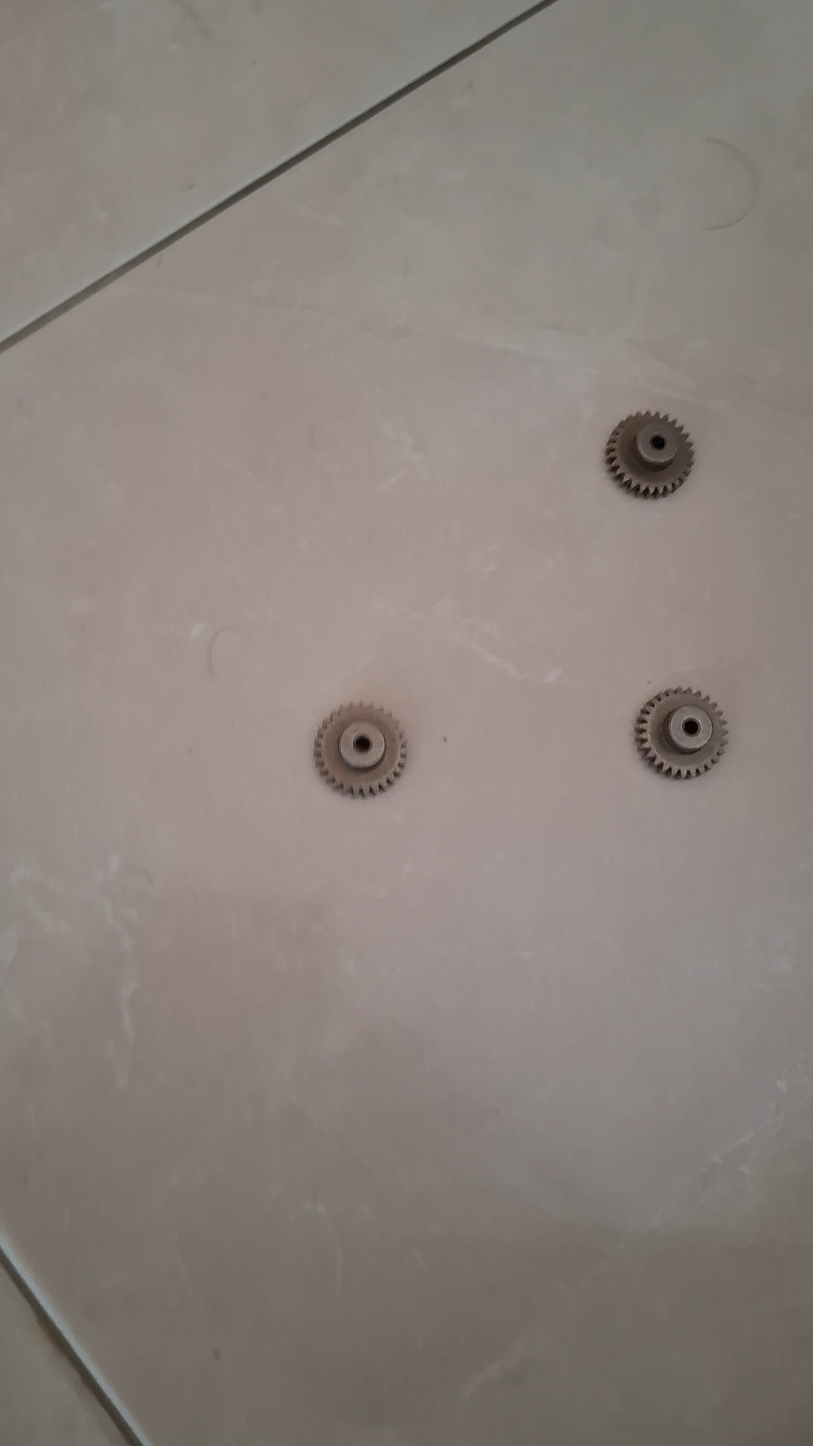spur gear: (314, 703, 406, 796), (635, 688, 728, 777), (604, 412, 693, 497)
